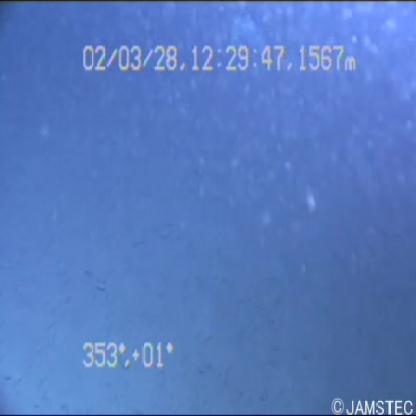Rác: (216, 11, 271, 76)
